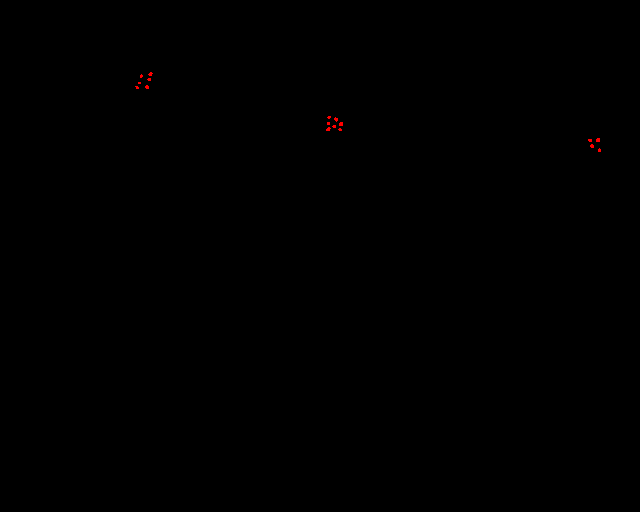Target: (148, 72, 153, 76), (334, 117, 338, 122), (326, 127, 331, 131), (145, 85, 149, 89), (339, 122, 343, 126), (596, 138, 600, 142), (590, 144, 594, 148), (140, 74, 143, 78), (147, 78, 151, 81), (135, 86, 139, 89), (327, 116, 331, 119), (332, 125, 336, 128), (338, 128, 342, 131), (588, 139, 592, 142), (598, 148, 601, 152), (327, 122, 330, 125), (138, 82, 141, 84)
